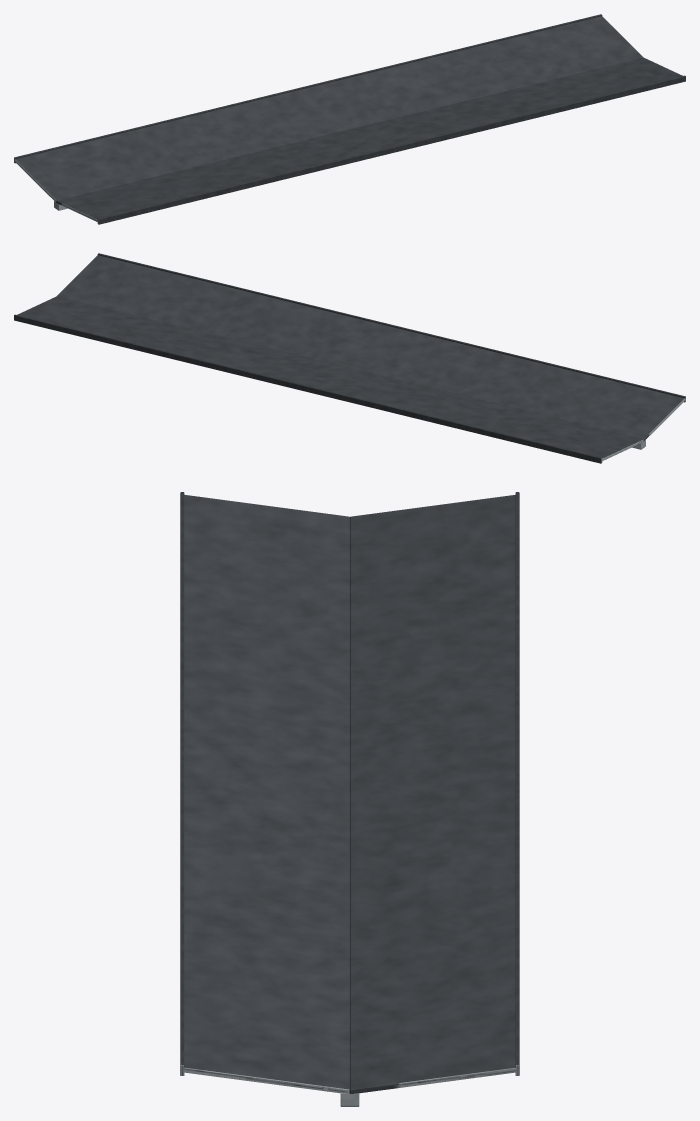
The model's file is platform_roof.fbx.
The picture shows the model from 3 angles, top to bottom: view 1: azimuth 30°, elevation 25°; view 2: azimuth 150°, elevation 25°; view 3: azimuth 270°, elevation 25°; orthographic projection. The views are drawn at different scales.
Parts seen in each view (by area): view 1: platform_roof; view 2: platform_roof; view 3: platform_roof.
Part boxes in pixels (x1,y1,x2,y2): platform_roof: (14, 14, 685, 224); platform_roof: (14, 253, 685, 463); platform_roof: (180, 492, 519, 1106).
Bounding box in the file's own units: 20 × 5 × 0.68.
Materials: 1 (1 with a texture image).
